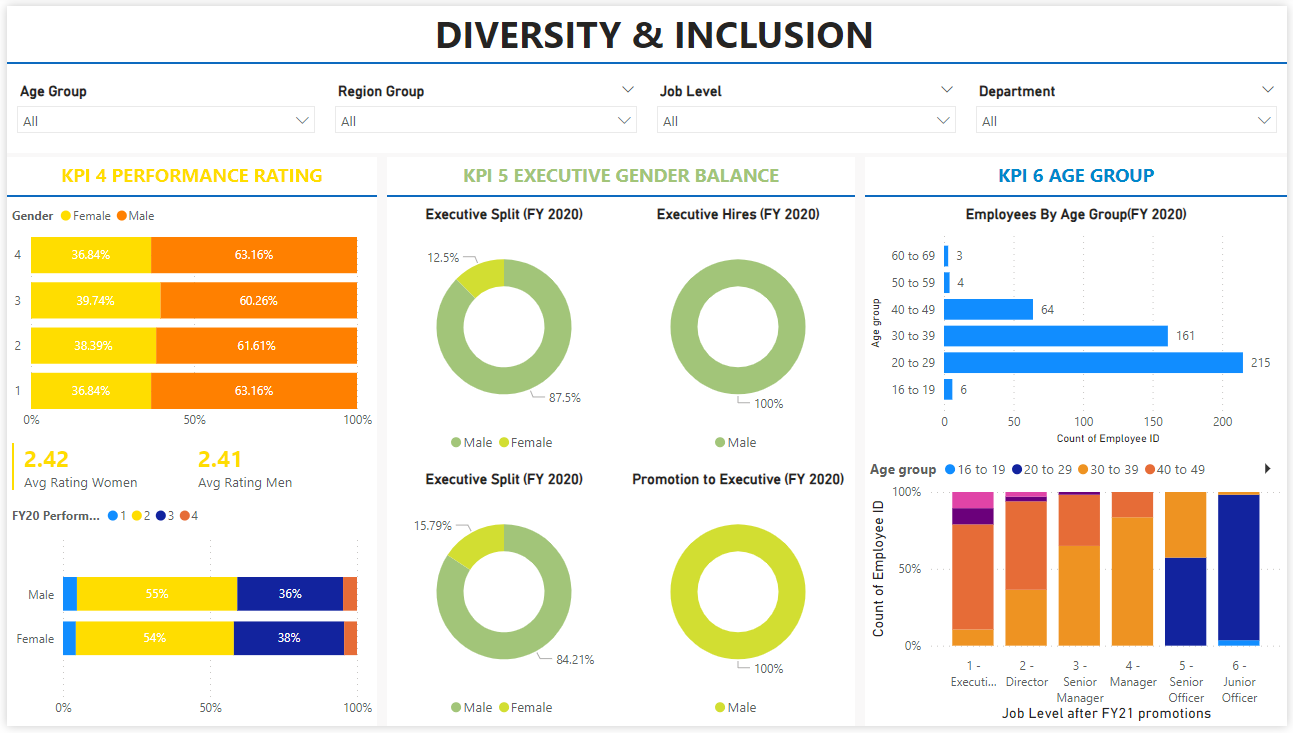

What the dashboard file says about the page in this screenshot:
{"tool":"powerbi","page":{"name":"Dashboard 2","canvas":[1280,720],"ordinal":1},"visuals":[{"type":"textbox","box":[0,0,1280,57],"z":0},{"type":"slicer","fields":{"Values":["Pharma.Last Department in FY20"]},"box":[959,57,321,90],"z":1000},{"type":"slicer","fields":{"Values":["Pharma.Job Level after FY20 promotions"]},"box":[640,57,319,90],"z":2000},{"type":"slicer","fields":{"Values":["Pharma.Age group"]},"box":[0,57,318,90],"z":3000},{"type":"slicer","fields":{"Values":["Pharma.Broad region group: nationality 1"]},"box":[318,57,322,90],"z":4000},{"type":"shape","box":[0,45,1280,24],"z":5000},{"type":"hundredPercentStackedBarChart","fields":{"Category":["Pharma.FY20 Performance Rating"],"Y":["CountNonNull(Pharma.Employee ID)"],"Series":["Pharma.Gender"]},"box":[0,190,370,242],"z":6000},{"type":"hundredPercentStackedBarChart","fields":{"Category":["Pharma.Gender"],"Y":["CountNonNull(Pharma.Employee ID)"],"Series":["Pharma.FY20 Performance Rating"]},"box":[0,490,370,230],"z":7000},{"type":"donutChart","title":"Executive Split (FY 2020)","fields":{"Category":["Pharma.Gender"],"Y":["CountNonNull(Pharma.Employee ID)"]},"box":[380,190,234,265],"z":8000,"group":"g1"},{"type":"group","id":"g1","title":"Group 1","box":[380,190,468,530],"z":8000},{"type":"clusteredBarChart","title":"Employees By Age Group(FY 2020)","fields":{"Category":["Pharma.Age group"],"Y":["CountNonNull(Pharma.Employee ID)"]},"box":[858,190,422,253],"z":9000},{"type":"donutChart","title":"Executive Split (FY 2020)","fields":{"Category":["Pharma.Gender"],"Y":["CountNonNull(Pharma.Employee ID)"]},"box":[380,455,234,265],"z":9000,"group":"g1"},{"type":"donutChart","title":"Executive Hires (FY 2020)","fields":{"Category":["Pharma.Gender"],"Y":["CountNonNull(Pharma.Employee ID)"]},"box":[614,190,234,265],"z":10000,"group":"g1"},{"type":"hundredPercentStackedColumnChart","fields":{"Series":["Pharma.Age group"],"Category":["Pharma.Job Level after FY21 promotions"],"Y":["CountNonNull(Pharma.Employee ID)"]},"box":[858,443,422,277],"z":10000},{"type":"textbox","box":[0,151,370,39],"z":11000},{"type":"donutChart","title":"Promotion to Executive (FY 2020)","fields":{"Category":["Pharma.Gender"],"Y":["CountNonNull(Pharma.Employee ID)"]},"box":[614,455,234,265],"z":11000,"group":"g1"},{"type":"textbox","box":[380,151,468,39],"z":12000},{"type":"textbox","box":[858,151,422,39],"z":13000},{"type":"shape","box":[0,178,370,24],"z":14000},{"type":"shape","box":[380,178,468,24],"z":15000},{"type":"shape","box":[858,178,422,24],"z":16000},{"type":"multiRowCard","fields":{"Values":["Pharma.# Avg Female Rating","Pharma.# Avg Men Rating"]},"box":[0,432,370,58],"z":17000}]}

Visuals, with their boxes in screenshot pixels (x1, y1, x2, y2), scaled from the page's 1280x720 canvas onto the 1293x733 screenshot:
textbox: (left=0, top=0, right=1292, bottom=58)
slicer - Pharma.Last Department in FY20: (left=969, top=58, right=1292, bottom=150)
slicer - Pharma.Job Level after FY20 promotions: (left=646, top=58, right=969, bottom=150)
slicer - Pharma.Age group: (left=0, top=58, right=321, bottom=150)
slicer - Pharma.Broad region group: nationality 1: (left=321, top=58, right=646, bottom=150)
shape: (left=0, top=46, right=1292, bottom=70)
hundredPercentStackedBarChart - Pharma.FY20 Performance Rating x CountNonNull(Pharma.Employee ID): (left=0, top=193, right=374, bottom=440)
hundredPercentStackedBarChart - Pharma.Gender x CountNonNull(Pharma.Employee ID): (left=0, top=499, right=374, bottom=732)
"Executive Split (FY 2020)" donutChart: (left=384, top=193, right=620, bottom=463)
"Group 1" group: (left=384, top=193, right=857, bottom=732)
"Employees By Age Group(FY 2020)" clusteredBarChart: (left=867, top=193, right=1292, bottom=451)
"Executive Split (FY 2020)" donutChart: (left=384, top=463, right=620, bottom=732)
"Executive Hires (FY 2020)" donutChart: (left=620, top=193, right=857, bottom=463)
hundredPercentStackedColumnChart - Pharma.Age group x Pharma.Job Level after FY21 promotions: (left=867, top=451, right=1292, bottom=732)
textbox: (left=0, top=154, right=374, bottom=193)
"Promotion to Executive (FY 2020)" donutChart: (left=620, top=463, right=857, bottom=732)
textbox: (left=384, top=154, right=857, bottom=193)
textbox: (left=867, top=154, right=1292, bottom=193)
shape: (left=0, top=181, right=374, bottom=206)
shape: (left=384, top=181, right=857, bottom=206)
shape: (left=867, top=181, right=1292, bottom=206)
multiRowCard - Pharma.# Avg Female Rating x Pharma.# Avg Men Rating: (left=0, top=440, right=374, bottom=499)
